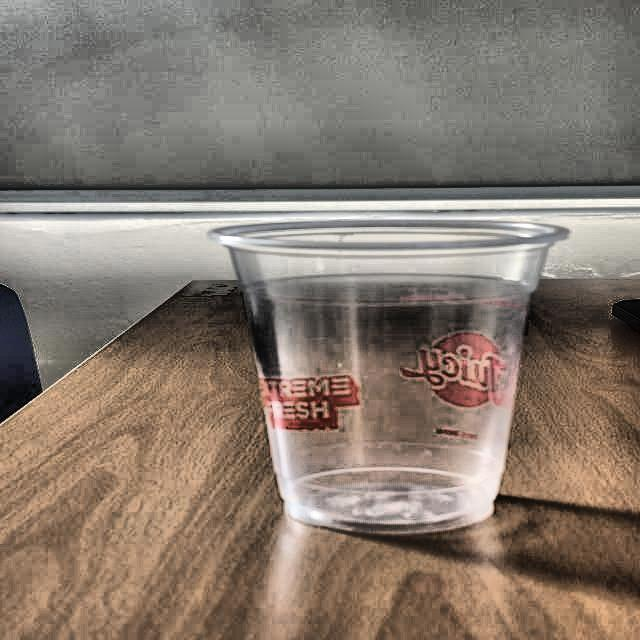plastic cup: (206, 218, 577, 536)
